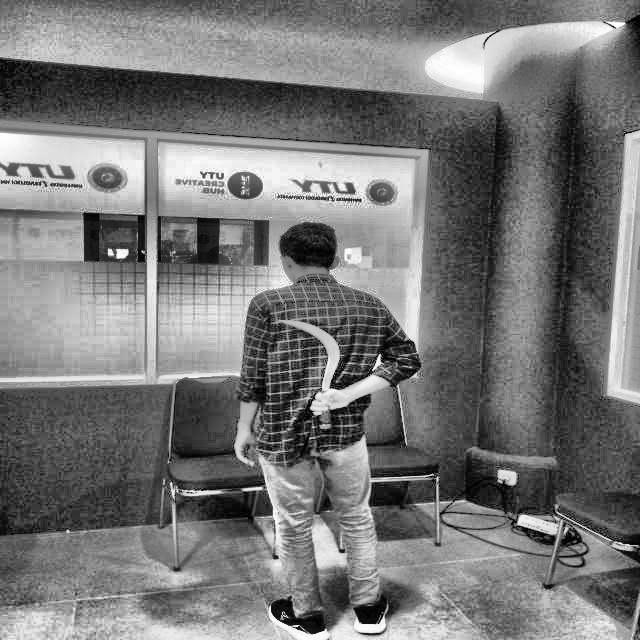celurit: (273, 311, 350, 429)
